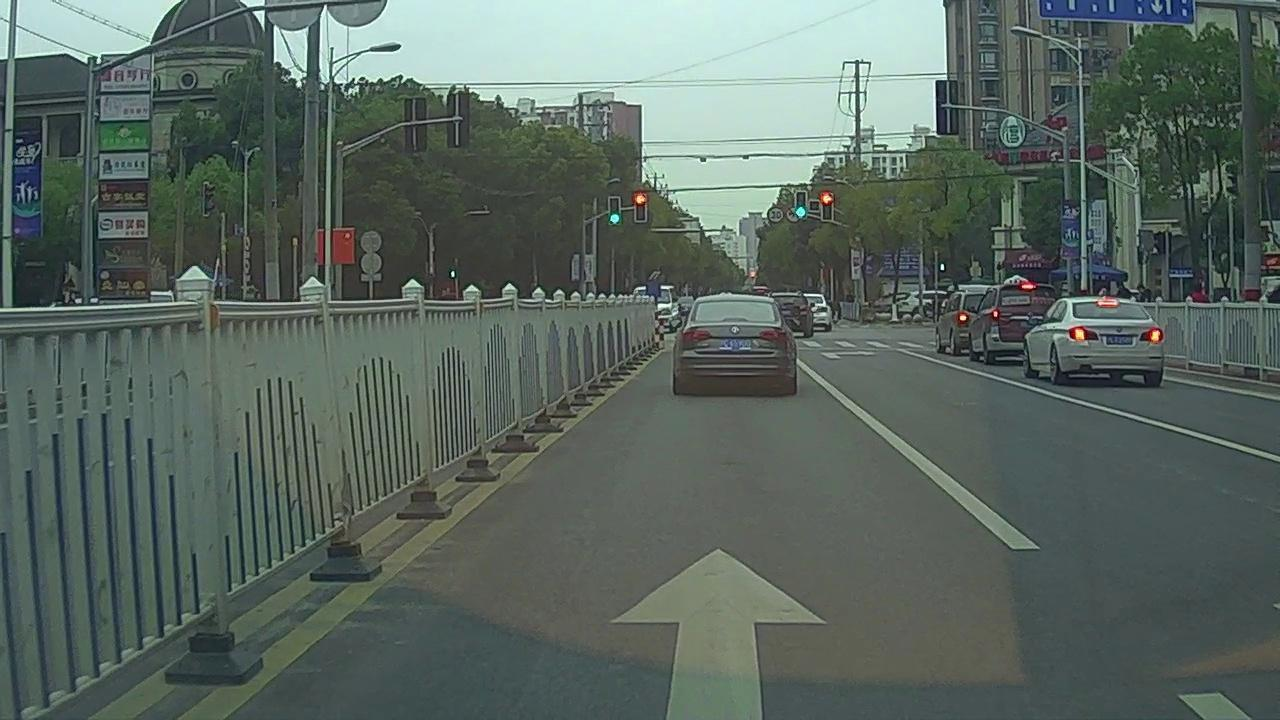traffic_light: (797, 192, 809, 219), (820, 191, 831, 218), (636, 194, 646, 221), (611, 196, 620, 225)
